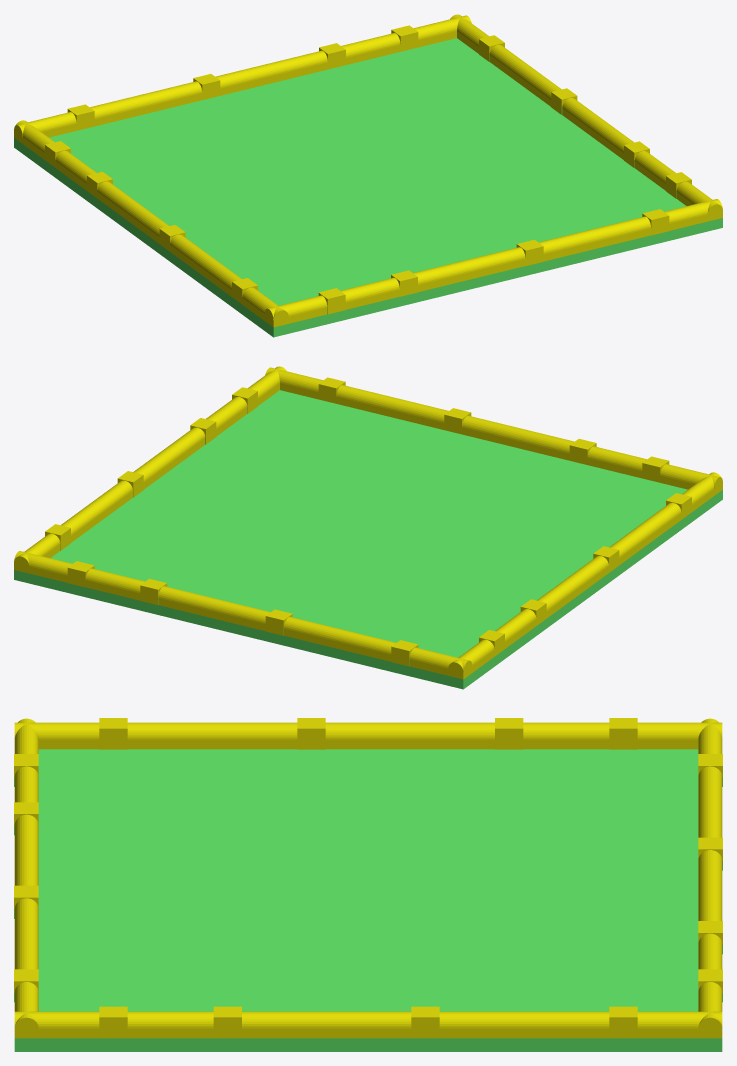
The picture shows the model from 3 angles, top to bottom: view 1: azimuth 30°, elevation 25°; view 2: azimuth 150°, elevation 25°; view 3: azimuth 270°, elevation 25°; orthographic projection. The views are drawn at different scales.
Visible parts, largest first — view 1: Cube.002; view 2: Cube.002; view 3: Cube.002.
Boxes of the visible parts, x1,y1,x2,y2 form: Cube.002: (14,14,722,337); Cube.002: (14,366,722,689); Cube.002: (14,718,722,1051).
Bounding box in the file's own units: 3264 × 177 × 3270.
